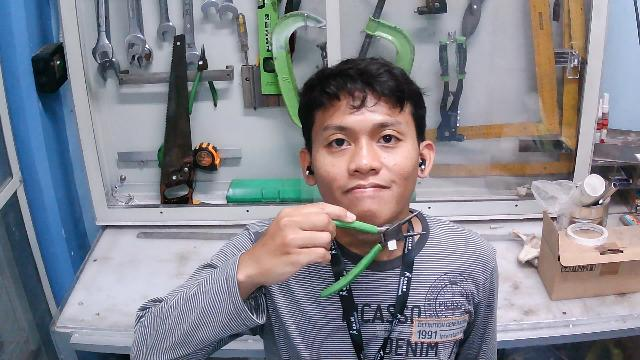tang_cucut_lancip_1: (311, 198, 436, 302)
